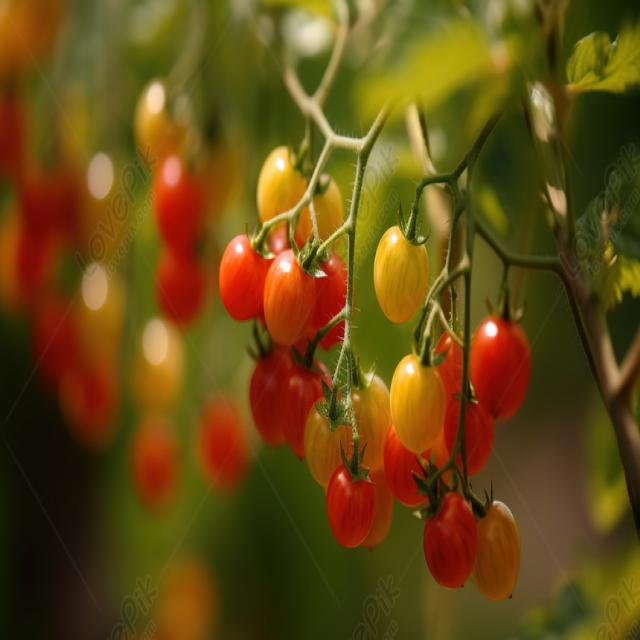fine: (391, 349, 447, 455), (377, 218, 428, 324), (480, 491, 523, 609), (345, 360, 389, 464), (255, 146, 308, 232), (303, 398, 349, 493)
overripe: (468, 308, 534, 422), (422, 483, 479, 596), (281, 357, 334, 466), (263, 250, 317, 351), (219, 230, 271, 332), (310, 246, 358, 351), (326, 458, 374, 558), (446, 386, 496, 482)
